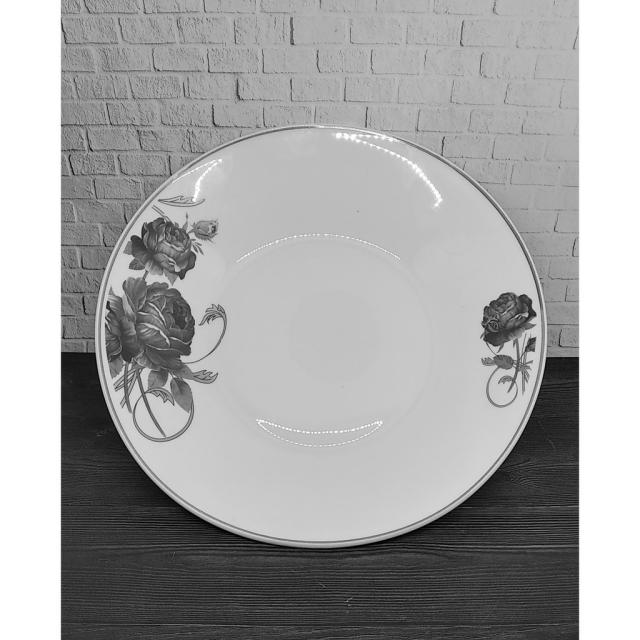dish: (62, 44, 582, 563)
